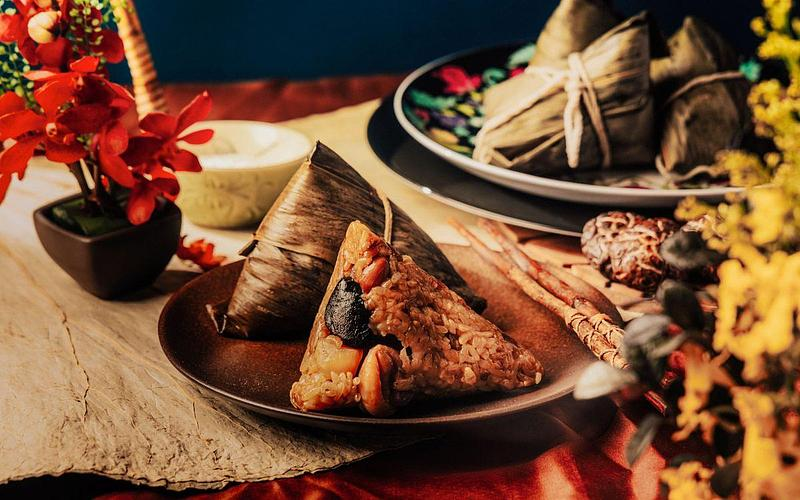zongzi: (217, 142, 485, 339), (290, 221, 542, 416), (474, 0, 653, 174), (651, 17, 751, 177)
